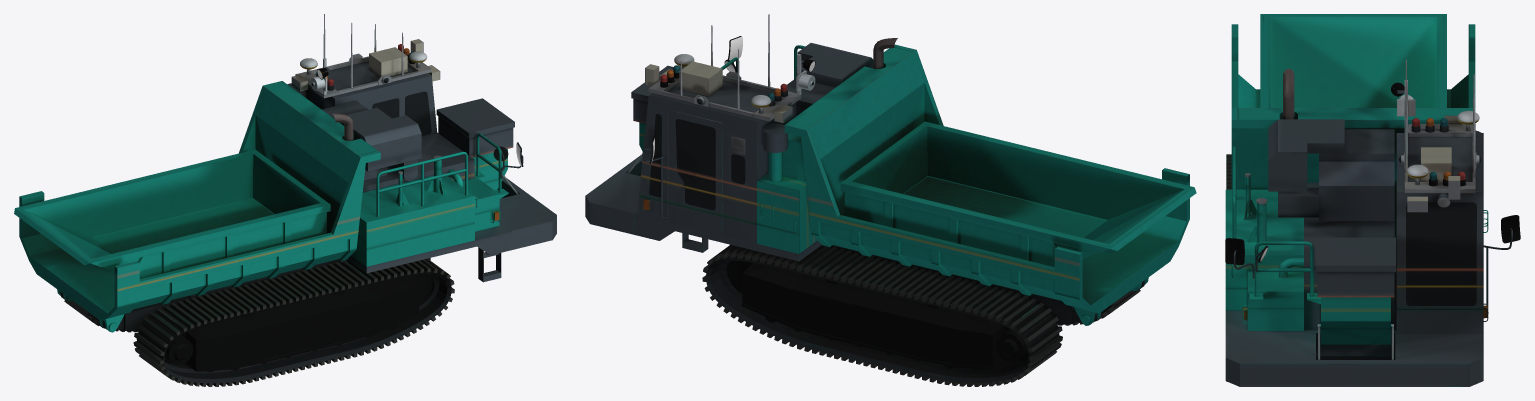
The model's file is opera_ic120.glb.
3 views of the same model, side by side, from view 1: azimuth 30°, elevation 25°; view 2: azimuth 150°, elevation 25°; view 3: azimuth 270°, elevation 25° (orthographic). The views are drawn at different scales.
Parts seen in each view (by area): view 1: body_link/Mesh_004-mesh/Mesh_004-mesh, vessel_pin_link/Mesh_011-mesh/Mesh_011-mesh; view 2: body_link/Mesh_004-mesh/Mesh_004-mesh, vessel_pin_link/Mesh_011-mesh/Mesh_011-mesh; view 3: body_link/Mesh_004-mesh/Mesh_004-mesh, vessel_pin_link/Mesh_011-mesh/Mesh_011-mesh.
Boxes of the visible parts, left/top/right/bottom form: body_link/Mesh_004-mesh/Mesh_004-mesh: left=61, top=14, right=556, bottom=386; vessel_pin_link/Mesh_011-mesh/Mesh_011-mesh: left=14, top=81, right=380, bottom=332; body_link/Mesh_004-mesh/Mesh_004-mesh: left=585, top=14, right=1144, bottom=386; vessel_pin_link/Mesh_011-mesh/Mesh_011-mesh: left=784, top=44, right=1196, bottom=325; body_link/Mesh_004-mesh/Mesh_004-mesh: left=1225, top=60, right=1520, bottom=386; vessel_pin_link/Mesh_011-mesh/Mesh_011-mesh: left=1231, top=14, right=1475, bottom=244.
Size of the model in its own units: 7.07 by 3.87 by 3.15.
Materials: 2 (2 with a texture image).
